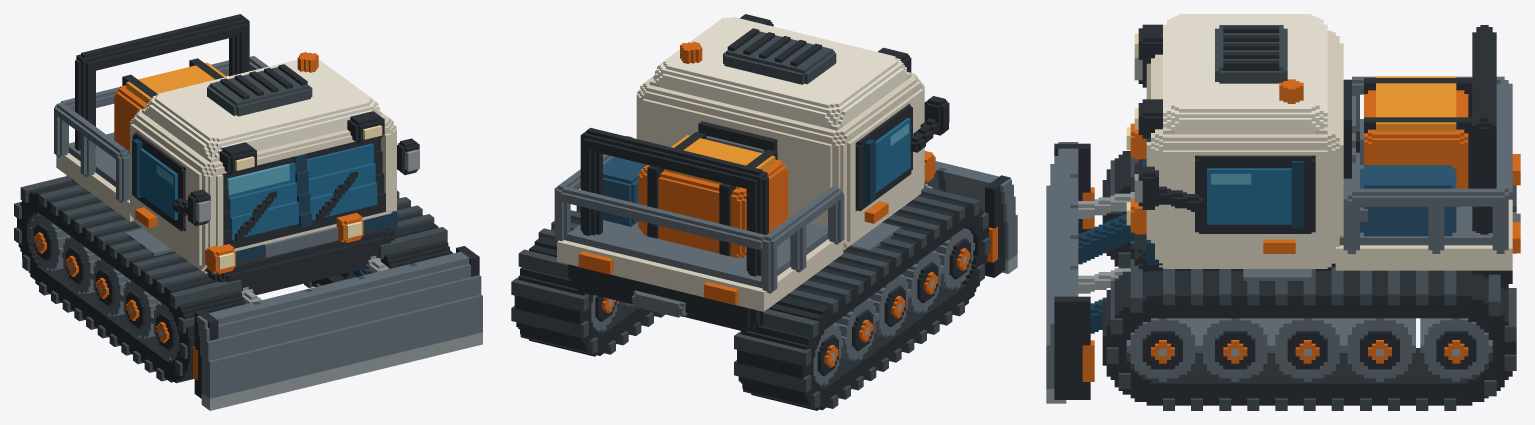
File: snowcat.glb
3 renders of one model, left to right at view 1: azimuth 30°, elevation 25°; view 2: azimuth 150°, elevation 25°; view 3: azimuth 270°, elevation 25°, orthographic. The views are drawn at different scales.
Visible parts, largest first — view 1: snowcat; view 2: snowcat; view 3: snowcat.
Part boxes in pixels (x1,y1,x2,y2): snowcat: (14, 14, 482, 410); snowcat: (511, 14, 1017, 410); snowcat: (1046, 14, 1520, 410).
Size of the model in its own units: 4.23 by 3.55 by 5.31.
